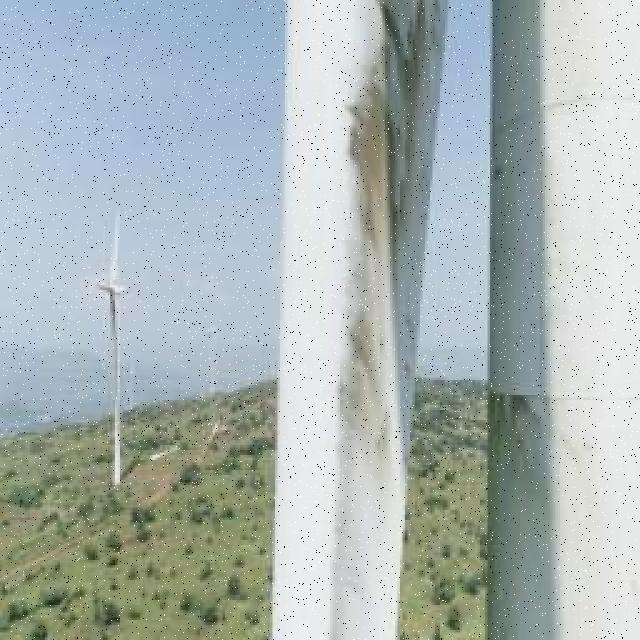Dirt: (339, 0, 440, 640), (483, 386, 640, 640)
Pin Hole: (490, 162, 508, 182)
